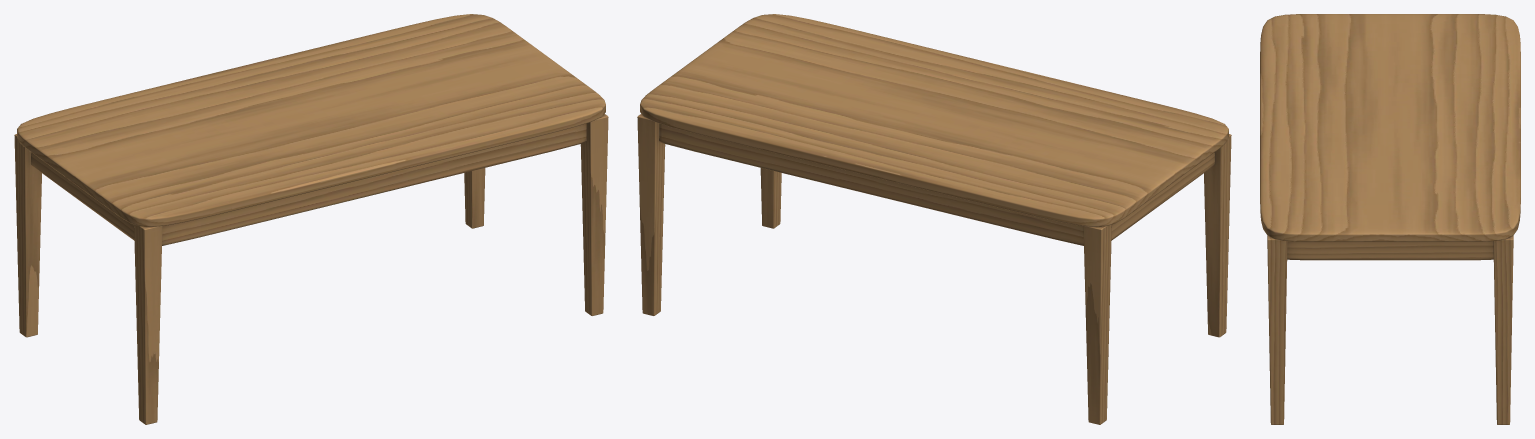
File: oak-dining.glb
3 views of the same model, side by side, from view 1: azimuth 30°, elevation 25°; view 2: azimuth 150°, elevation 25°; view 3: azimuth 270°, elevation 25° (orthographic). The views are drawn at different scales.
Visible parts, largest first — view 1: wood_h, wood_v, wood_hy; view 2: wood_h, wood_v, wood_hy; view 3: wood_h, wood_v, wood_hy.
Boxes of the visible parts, bbox=[...] form: wood_h: bbox=[17, 14, 605, 245]; wood_v: bbox=[14, 114, 608, 424]; wood_hy: bbox=[31, 152, 134, 240]; wood_h: bbox=[640, 14, 1228, 245]; wood_v: bbox=[637, 114, 1231, 424]; wood_hy: bbox=[1111, 152, 1214, 240]; wood_h: bbox=[1260, 14, 1520, 241]; wood_v: bbox=[1267, 235, 1513, 424]; wood_hy: bbox=[1287, 241, 1493, 260].
Size of the model in its own units: 1.8 by 0.75 by 0.8999.
Materials: 3 (3 with a texture image).
